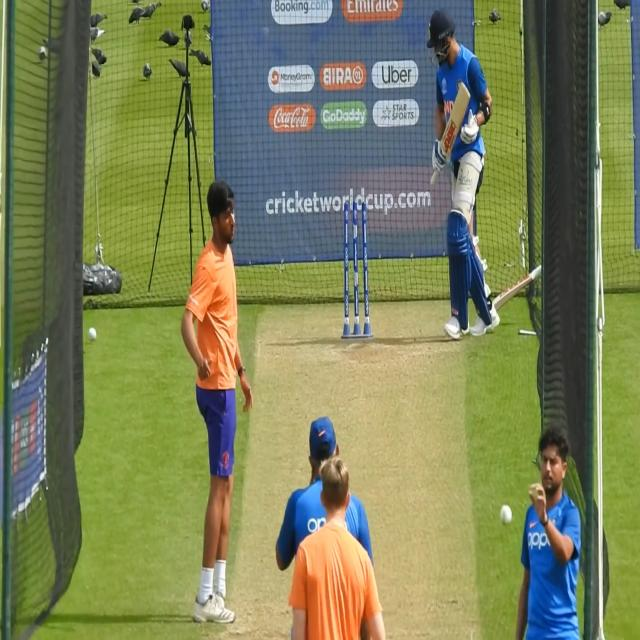ball: (499, 500, 514, 530), (88, 327, 96, 341)
stump: (341, 197, 371, 340)
